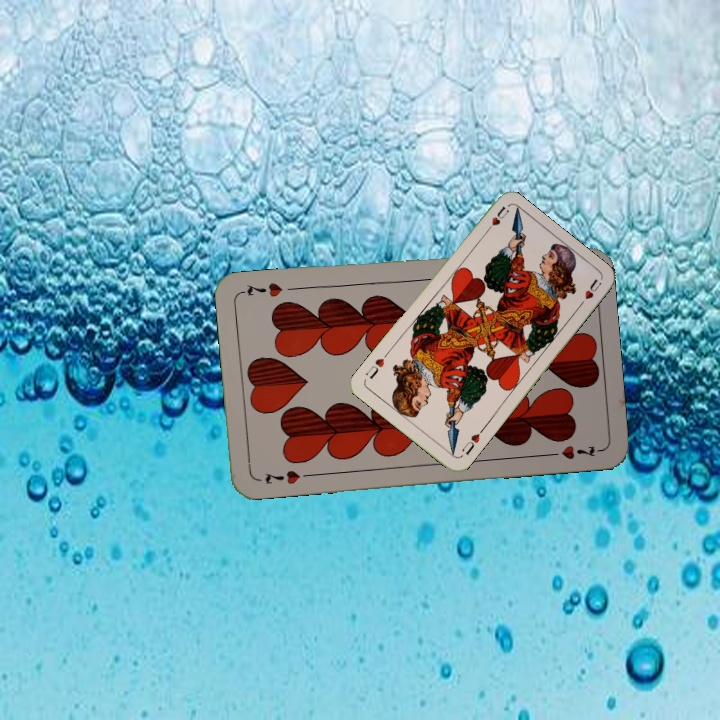H7: (261, 466, 314, 487)
HU: (480, 202, 512, 237), (457, 425, 486, 458)
